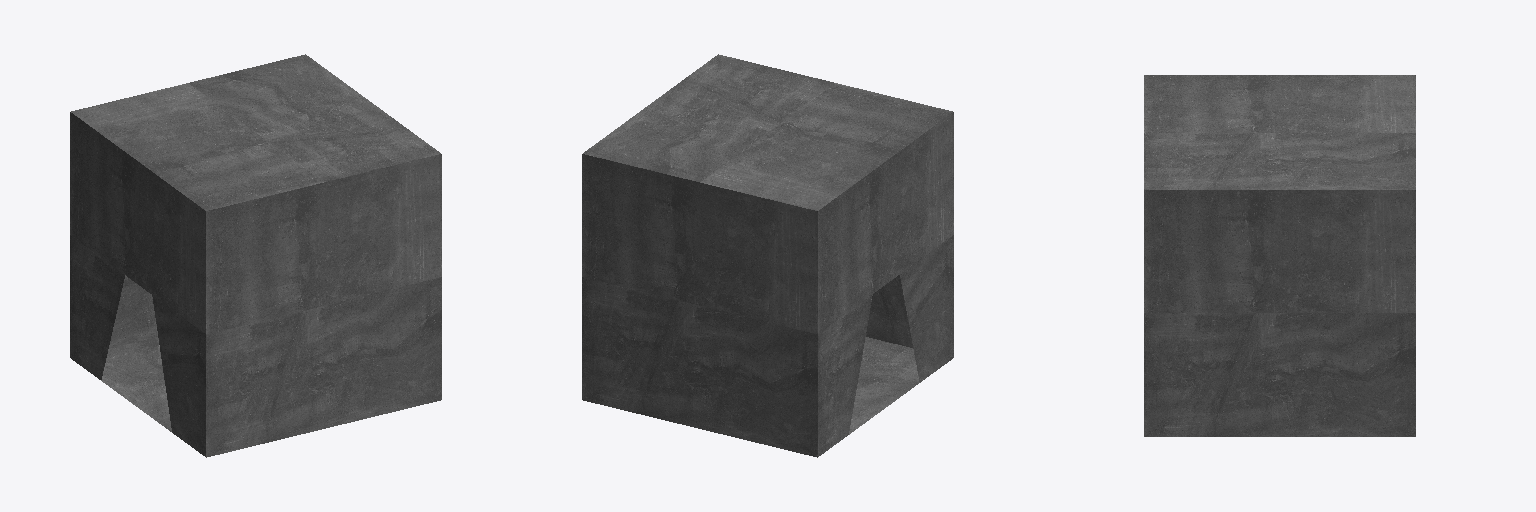
3 views of the same model, side by side, from view 1: azimuth 30°, elevation 25°; view 2: azimuth 150°, elevation 25°; view 3: azimuth 270°, elevation 25° (orthographic).
Parts seen in each view (by area): view 1: 003_SquarePlane_1, 005_SquarePlane_4, 002_SquarePlane, 006_SquarePlane_5, 001_SquarePlane_3; view 2: 001_SquarePlane_3, 005_SquarePlane_4, 002_SquarePlane, 006_SquarePlane_5, 003_SquarePlane_1; view 3: 004_SquarePlane_2, 005_SquarePlane_4.
Part boxes in pixels (left/top/right/bottom): 003_SquarePlane_1: left=206, top=154, right=441, bottom=457; 005_SquarePlane_4: left=71, top=54, right=440, bottom=210; 002_SquarePlane: left=70, top=112, right=205, bottom=456; 006_SquarePlane_5: left=101, top=337, right=171, bottom=431; 001_SquarePlane_3: left=109, top=275, right=157, bottom=348; 001_SquarePlane_3: left=582, top=154, right=817, bottom=457; 005_SquarePlane_4: left=583, top=54, right=952, bottom=210; 002_SquarePlane: left=818, top=112, right=953, bottom=456; 006_SquarePlane_5: left=849, top=337, right=919, bottom=434; 003_SquarePlane_1: left=866, top=275, right=912, bottom=347; 004_SquarePlane_2: left=1144, top=190, right=1415, bottom=436; 005_SquarePlane_4: left=1144, top=75, right=1415, bottom=189.
Bounding box in the file's own units: 200 × 200 × 200.
3 materials, 2 textured.